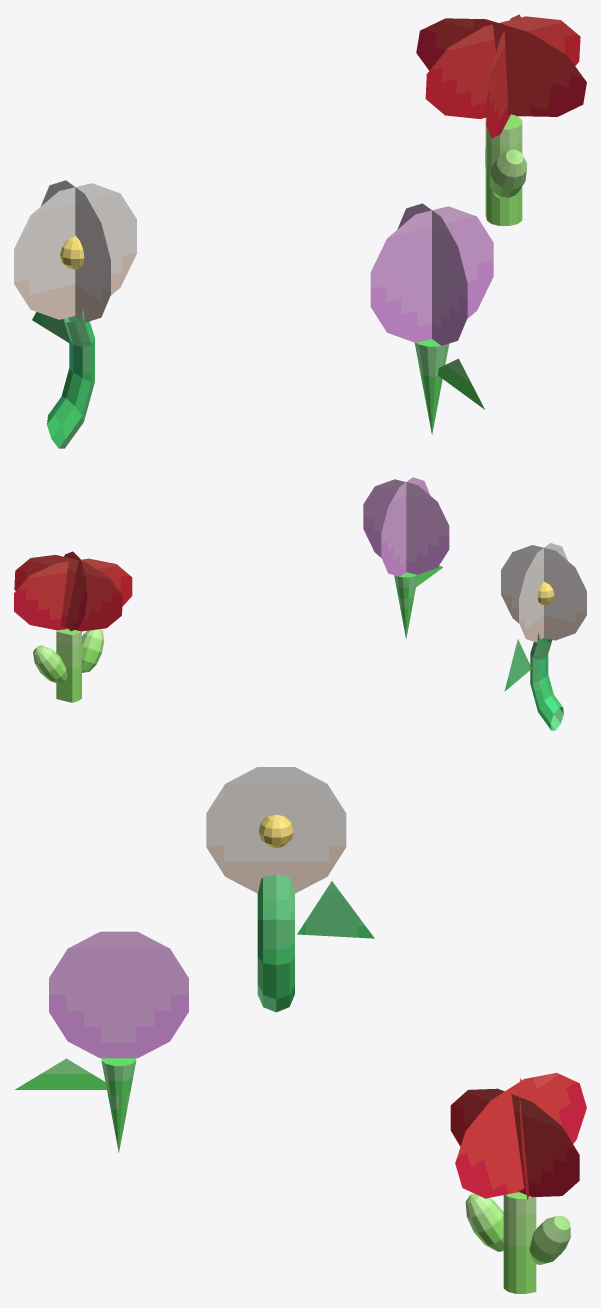
The model's file is Flowers.dae.
3 renders of one model, top to bottom at view 1: azimuth 30°, elevation 25°; view 2: azimuth 150°, elevation 25°; view 3: azimuth 270°, elevation 25°, orthographic. The views are drawn at different scales.
Visible parts, largest first — view 1: rose, white, purple; view 2: rose, white, purple; view 3: white, rose, purple.
Boxes of the visible parts, bbox=[...] form: rose: bbox=[416, 14, 586, 225]; white: bbox=[14, 180, 136, 448]; purple: bbox=[370, 203, 493, 434]; rose: bbox=[14, 551, 132, 702]; white: bbox=[501, 543, 586, 730]; purple: bbox=[363, 477, 449, 638]; white: bbox=[206, 767, 374, 1012]; rose: bbox=[450, 1072, 586, 1293]; purple: bbox=[15, 931, 188, 1152].
Size of the model in its own units: 2.81 by 1 by 2.05.
14 materials, 14 textured.
